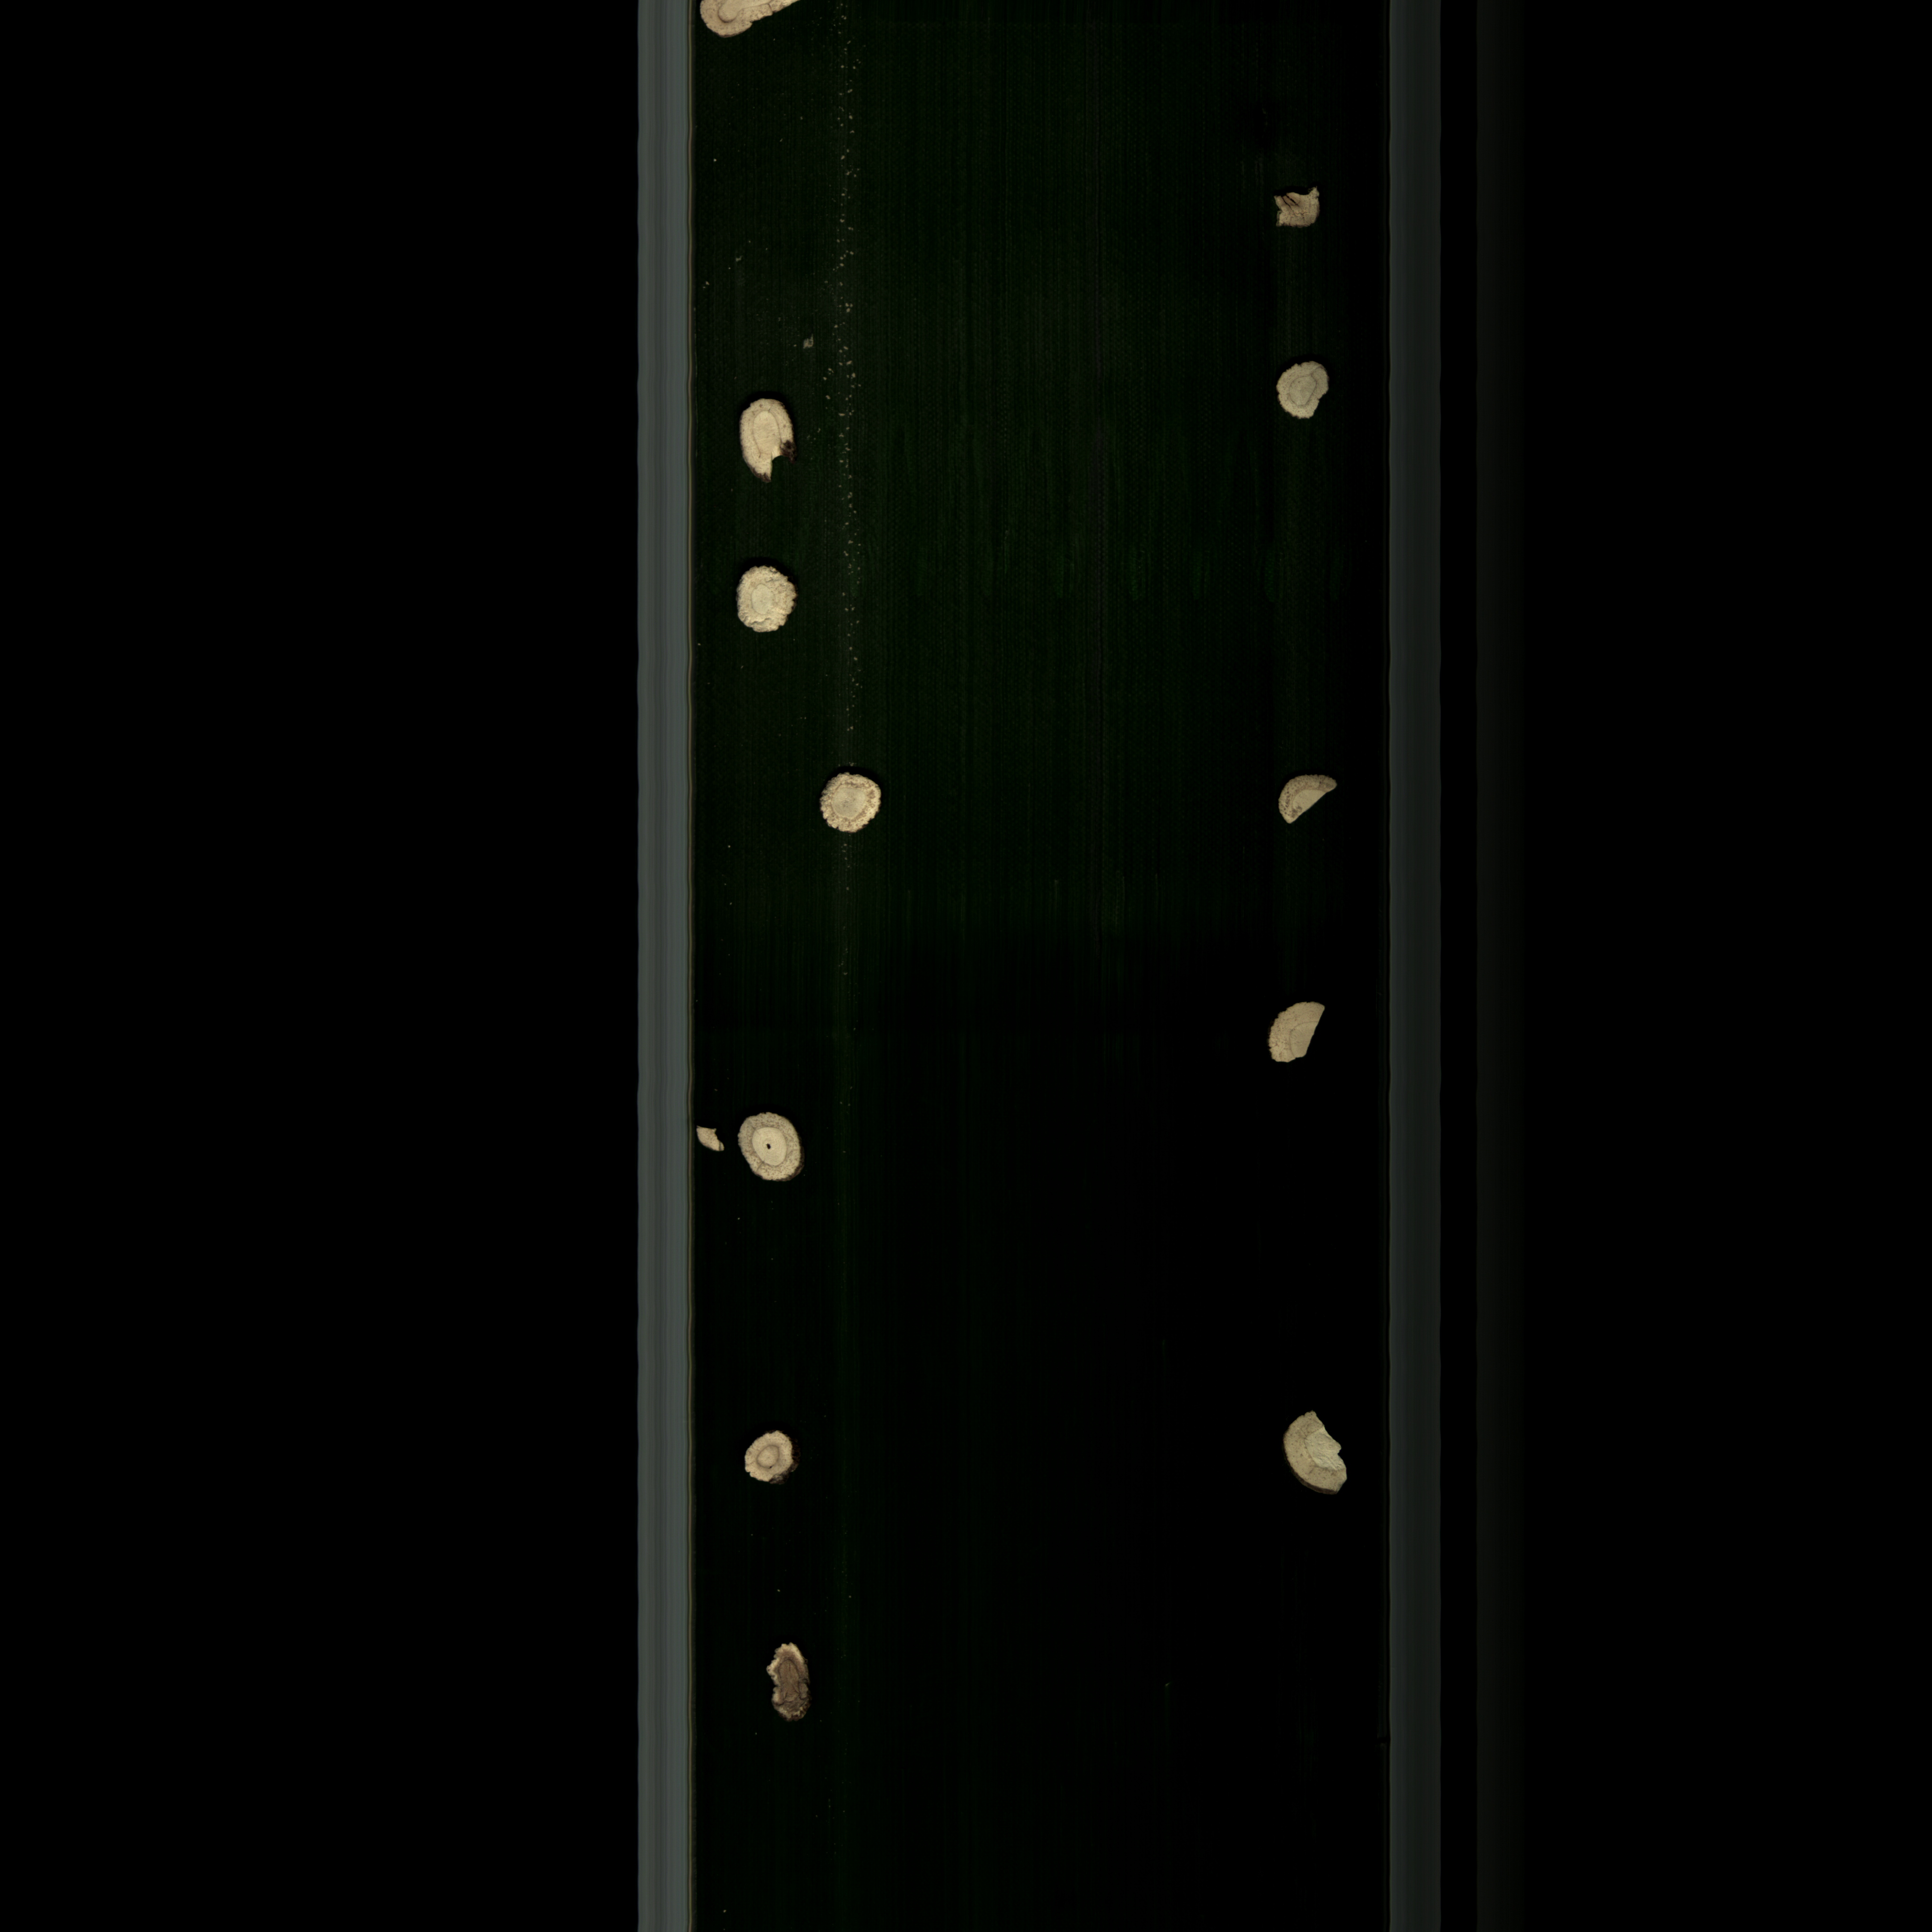debris: (1272, 1403, 1353, 1504), (1256, 996, 1339, 1077), (729, 387, 794, 485)
distortion: (731, 559, 803, 644), (1276, 356, 1330, 428)
dreg: (688, 1115, 727, 1159)
hole: (738, 1115, 814, 1192)
moldy: (761, 1637, 823, 1730), (731, 1422, 812, 1493), (817, 763, 885, 842), (1276, 766, 1345, 833), (1260, 186, 1327, 232)
